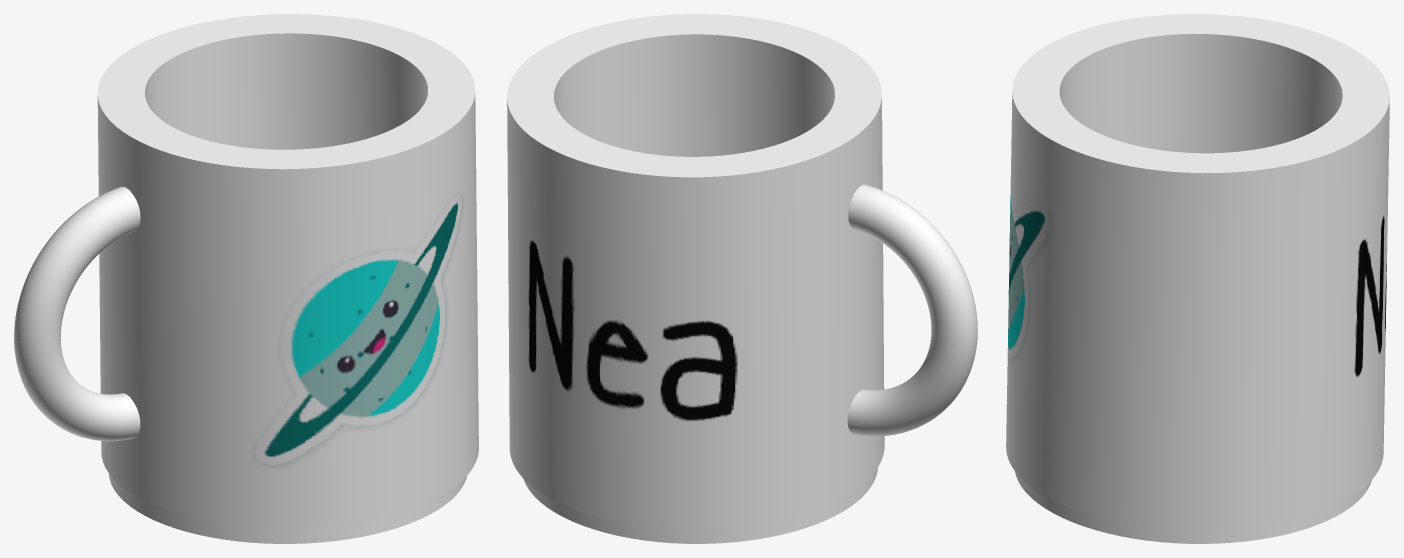
The model's file is KUPPI_1.fbx.
3 views of the same model, side by side, from view 1: azimuth 30°, elevation 25°; view 2: azimuth 150°, elevation 25°; view 3: azimuth 270°, elevation 25° (orthographic).
Parts seen in each view (by area): view 1: node_id57, node_id46 (×2), node_id58; view 2: node_id57, node_id46 (×2), node_id58; view 3: node_id57, node_id58.
Part boxes in pixels (<box>): node_id57: <box>97,14,478,527</box>; node_id46 (×2): <box>14,186,140,441</box>; node_id58: <box>108,473,466,543</box>; node_id57: <box>507,14,884,528</box>; node_id46 (×2): <box>847,184,977,436</box>; node_id58: <box>523,468,877,543</box>; node_id57: <box>1006,14,1389,529</box>; node_id58: <box>1015,472,1371,543</box>.
Size of the model in its own units: 0.3241 by 0.2682 by 0.245.
4 materials, 4 textured.
